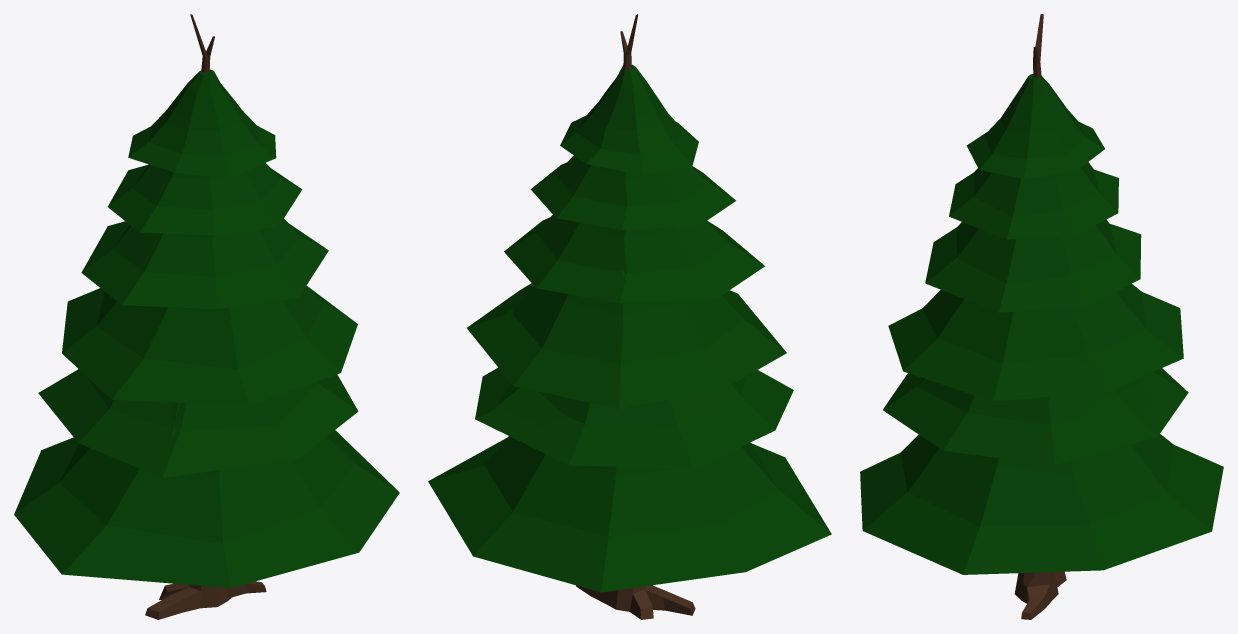
File: low poly fir.fbx
3 views of the same model, side by side, from view 1: azimuth 30°, elevation 25°; view 2: azimuth 150°, elevation 25°; view 3: azimuth 270°, elevation 25° (orthographic). The views are drawn at different scales.
Parts seen in each view (by area): view 1: Cube.005, tronc; view 2: Cube.005, tronc; view 3: Cube.005, tronc.
Part boxes in pixels (x1=…): Cube.005: x1=14, y1=69, x2=399, y2=588; tronc: x1=145, y1=14, x2=266, y2=619; Cube.005: x1=428, y1=64, x2=831, y2=592; tronc: x1=576, y1=14, x2=695, y2=619; Cube.005: x1=860, y1=74, x2=1223, y2=574; tronc: x1=1014, y1=14, x2=1066, y2=619.
Bounding box in the file's own units: 1732 × 2877 × 1653.
